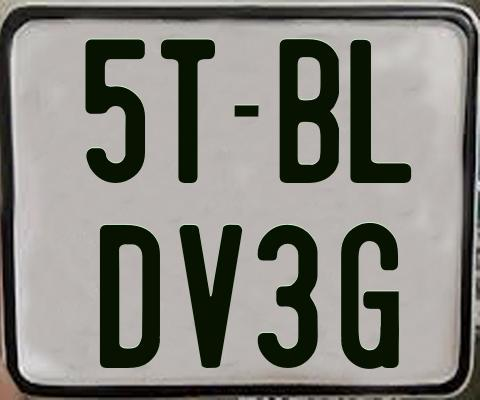3: (258, 225, 324, 369)
5: (82, 36, 147, 180)
B: (278, 38, 341, 182)
D: (99, 222, 165, 370)
G: (340, 221, 404, 369)
L: (347, 38, 414, 184)
T: (160, 39, 214, 183)
V: (179, 222, 247, 371)
